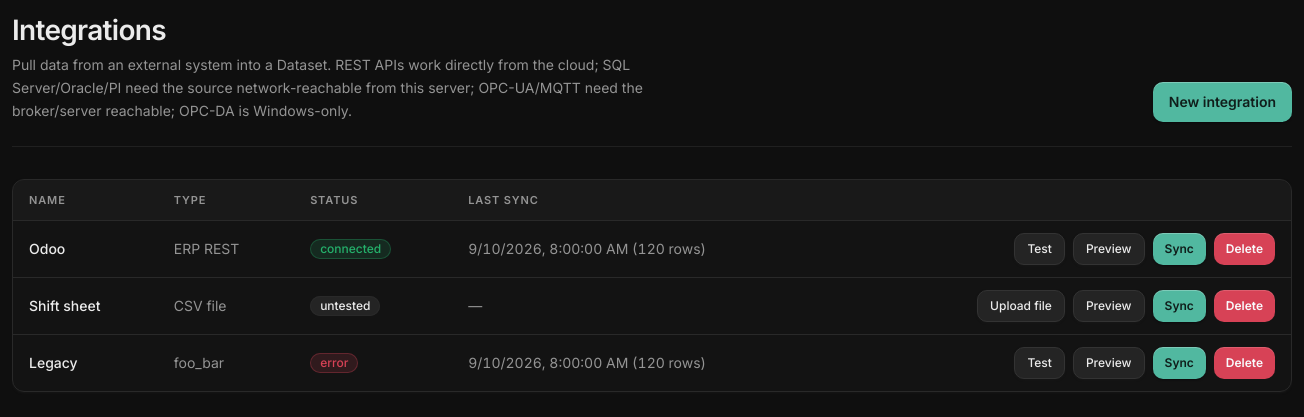
Test: Integrations › tests a connection and shows the message, falling back to Failed
Expected: the text "Odoo" is shown, 13,220 -> 158,277
What coordinates should you click on to do the following:
click the button "Test" in the row of "Odoo"
I would click on:
 (1040, 249)
Its box is 1014,233 -> 1065,265.
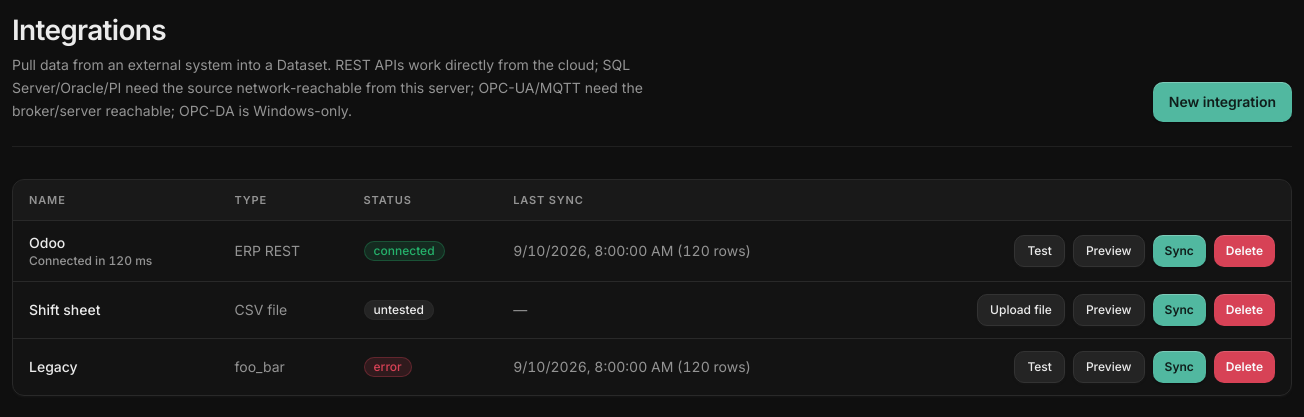
Expected: the text "Connected in 120 ms" is shown, 29,253 -> 152,268
What coordinates should you click on to do the following:
click the button "Test" in the row of "Legacy"
I would click on:
 (1040, 367)
Its box is 1014,351 -> 1065,383.
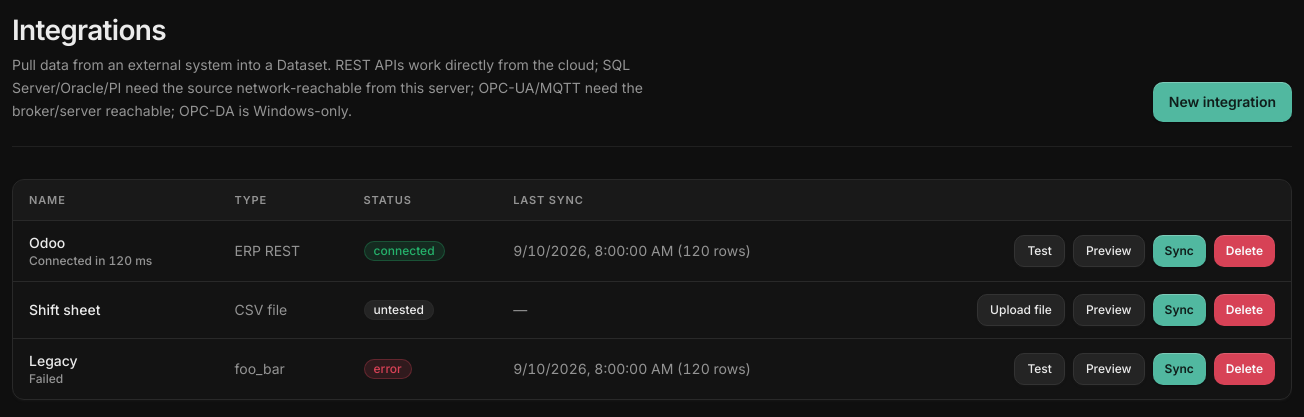
Expected: the text "Failed" is shown, 29,371 -> 63,386
